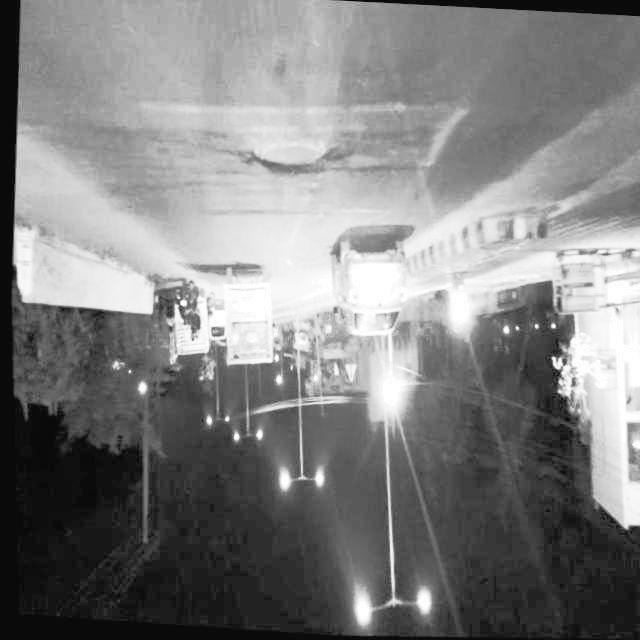Pothole: (244, 123, 335, 198)
